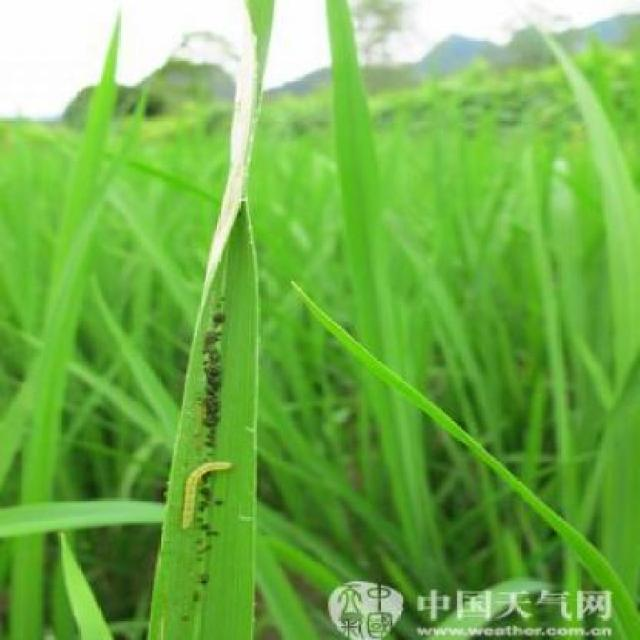leaf-folder: (165, 445, 270, 553)
